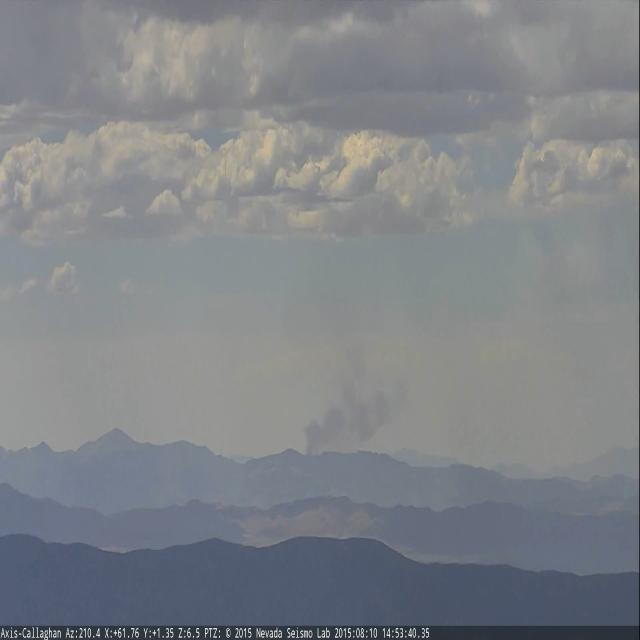smoke: (306, 372, 393, 453)
